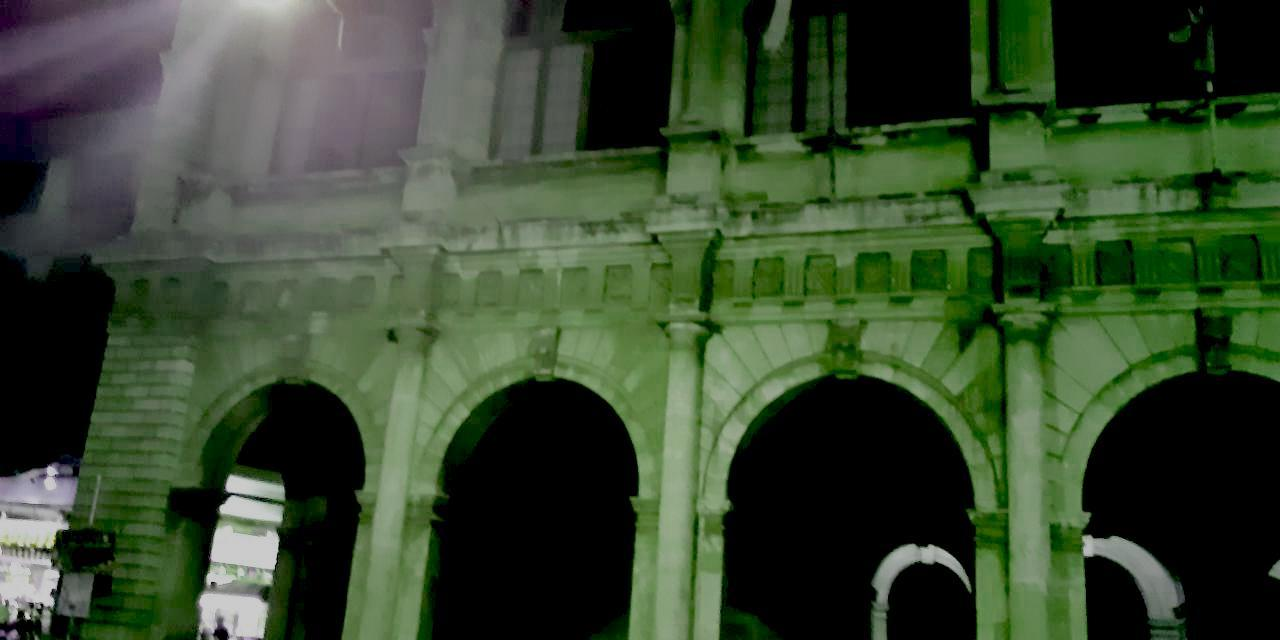Loggia: (44, 1, 1280, 640)
